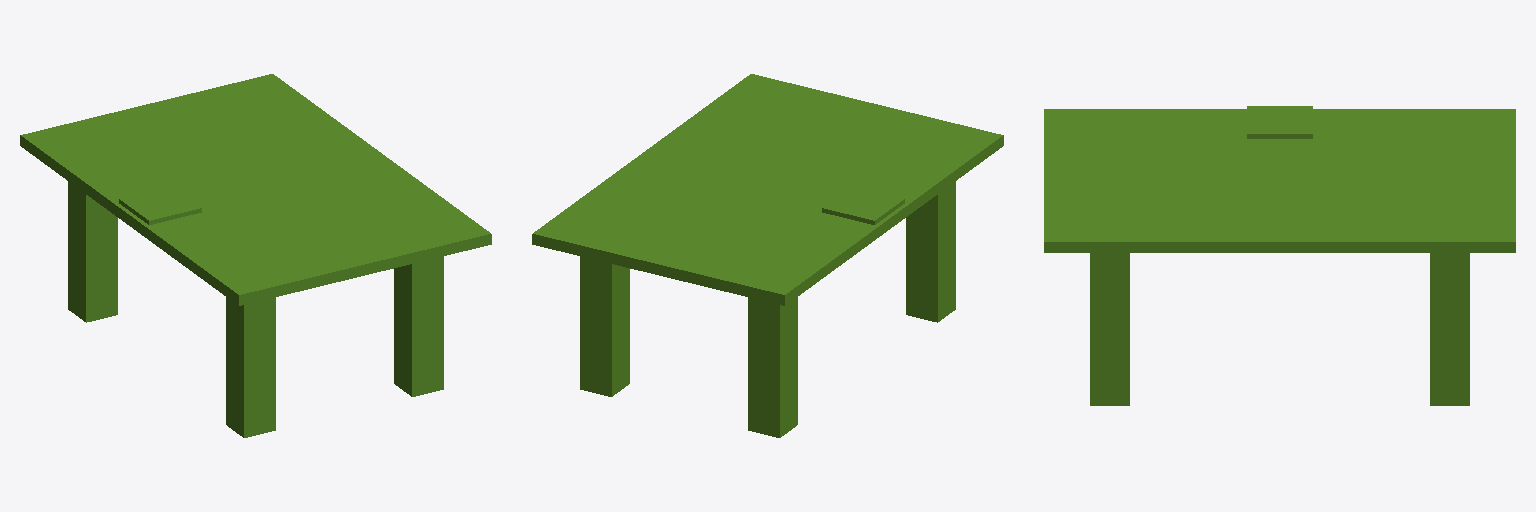
robot.urdf — robot_optical_table_kong:
<?xml version="1.0" encoding="utf-8"?>
<!-- This URDF was automatically created by SolidWorks to URDF Exporter! Originally created by [author] ([email redacted])
     Commit Version: 1.5.1-0-g916b5db  Build Version: 1.5.7152.31018
     For more information, please see http://wiki.ros.org/sw_urdf_exporter -->
<robot
  name="robot_optical_table_kong">

  <link
    name="robot_optical_table_kong">
    <inertial>
      <origin
        xyz="0 0 0.7"
        rpy="0 0 -1.5707963267949" />
      <mass
        value="171" />
      <inertia
        ixx="31.349"
        ixy="2.6626E-15"
        ixz="-7.8063E-15"
        iyy="79.054"
        iyz="-1.76902539520067E-15"
        izz="64.086" />
    </inertial>
    <visual>
      <origin
        xyz="0 0 0.7"
        rpy="0 0 -1.5707963267949" />
      <geometry>
        <mesh
          filename="package://dual_description/meshes/robot_optical_table.STL" />
      </geometry>
      <material
        name="">
        <color
          rgba="0.4 0.6 0.2 1" />
      </material>
    </visual>
    <collision>
      <origin
        xyz="0 0 0.7"
        rpy="0 0 -1.5707963267949" />
      <geometry>
        <mesh
          filename="package://dual_description/meshes/robot_optical_table.STL" />
      </geometry>
    </collision>
  </link>

</robot>

--- Facts derived from the render (not from the file) ---
Views: 3 orthographic renders of the robot side by side, from view 1: azimuth 30°, elevation 25°; view 2: azimuth 150°, elevation 25°; view 3: azimuth 270°, elevation 25°.
Model robot_optical_table_kong with 1 links and 0 joints (none), rooted at robot_optical_table_kong, posed all joints at 0.
Links seen in each view (by area): view 1: robot_optical_table_kong; view 2: robot_optical_table_kong; view 3: robot_optical_table_kong.
Link boxes in pixels (x1,y1,x2,y2): robot_optical_table_kong: [20, 74, 491, 437]; robot_optical_table_kong: [532, 74, 1003, 437]; robot_optical_table_kong: [1044, 106, 1515, 405].
Bounding box of the posed robot: 1.2 × 1.8 × 0.77 m (x, y, z).
Meshes: 1 distinct files referenced, 1 mesh visuals loaded (1 binary STL).
